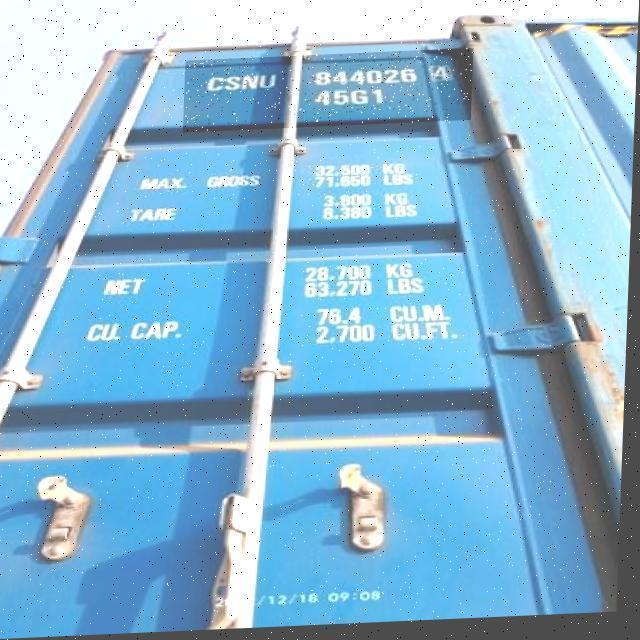ISO: (307, 85, 392, 114)
container_number: (205, 57, 465, 95)
